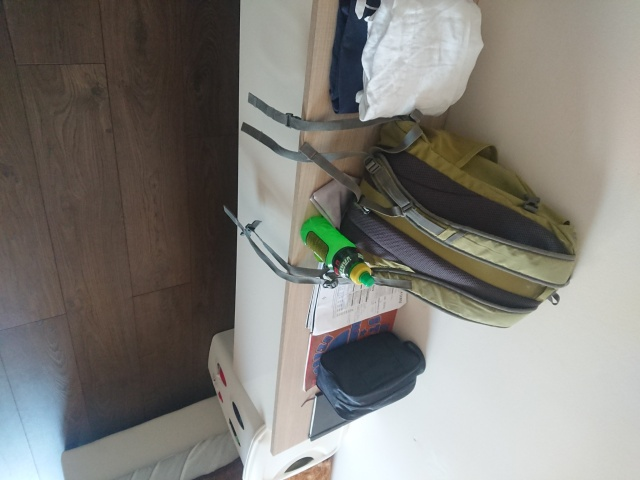Vindi Iso Sport Lemon-Grapefruit 500mL: (298, 214, 376, 288)
